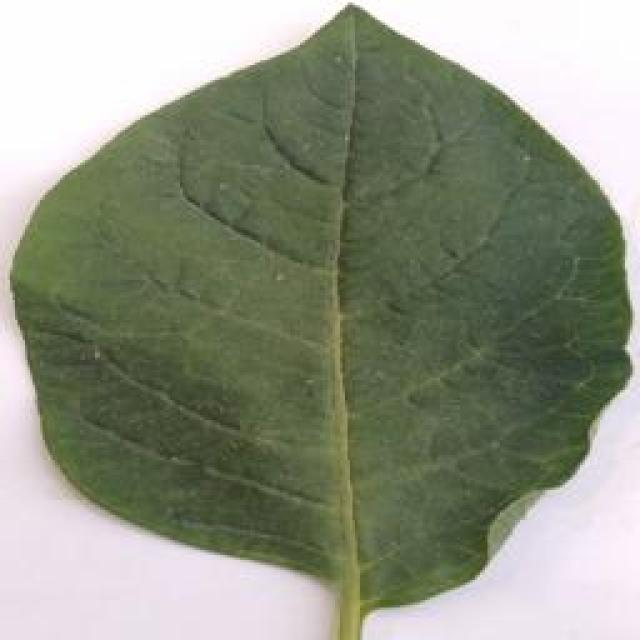Potato_Healthy: (3, 7, 635, 630)
